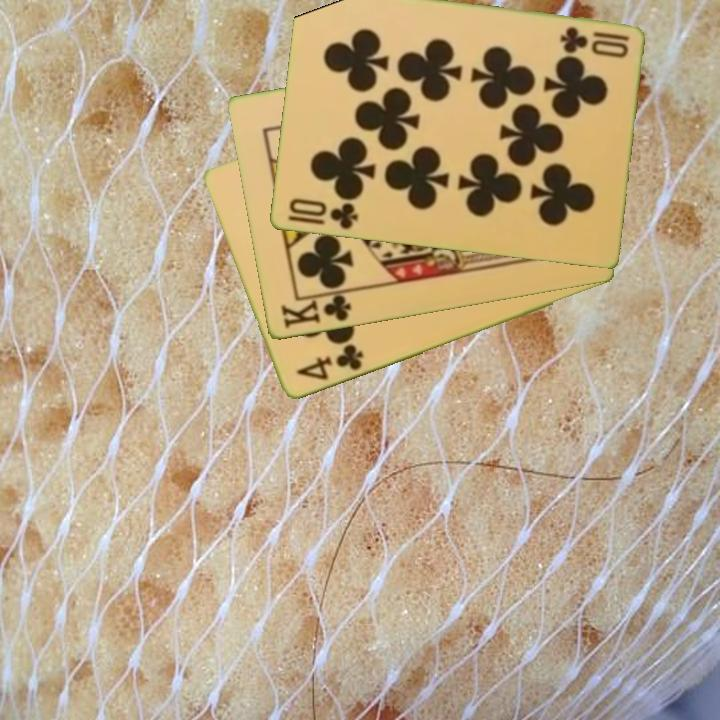10c: (285, 195, 360, 233), (555, 23, 632, 60)
4c: (293, 341, 366, 384)
Kc: (277, 288, 356, 332)
